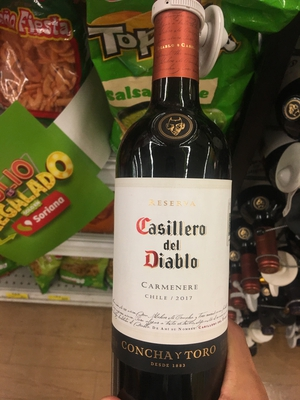casillero del diablo carmenere: (105, 19, 239, 400)
